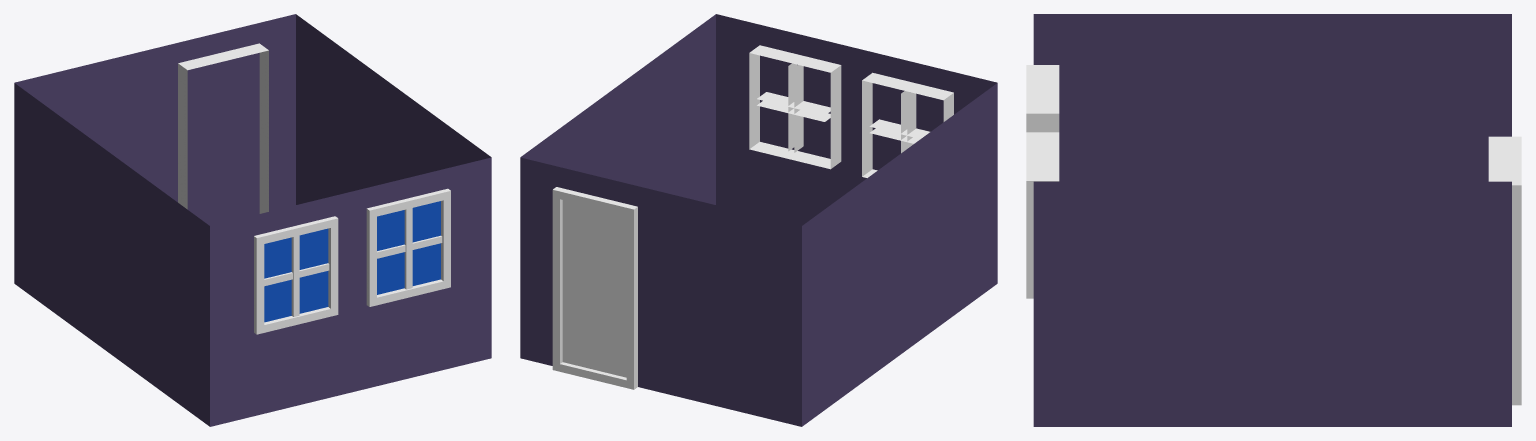
File: CityBuildingA_03_base.fbx
3 renders of one model, left to right at view 1: azimuth 30°, elevation 25°; view 2: azimuth 150°, elevation 25°; view 3: azimuth 270°, elevation 25°, orthographic. The views are drawn at different scales.
Parts seen in each view (by area): view 1: CityBuildingA_03_base; view 2: CityBuildingA_03_base; view 3: CityBuildingA_03_base.
Part boxes in pixels (x1=…): CityBuildingA_03_base: x1=14, y1=14, x2=491, y2=426; CityBuildingA_03_base: x1=520, y1=14, x2=997, y2=426; CityBuildingA_03_base: x1=1026, y1=14, x2=1521, y2=426.
Size of the model in its own units: 0.4513 by 0.3075 by 0.563.
